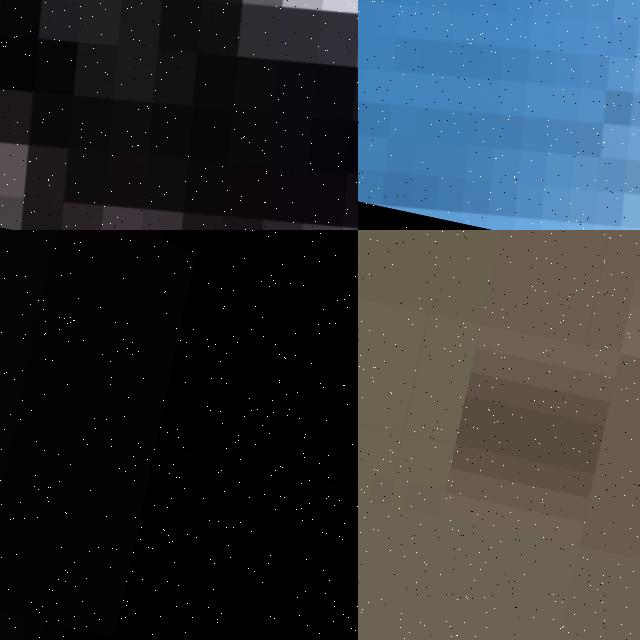drone: (0, 0, 358, 230), (358, 0, 640, 230)
